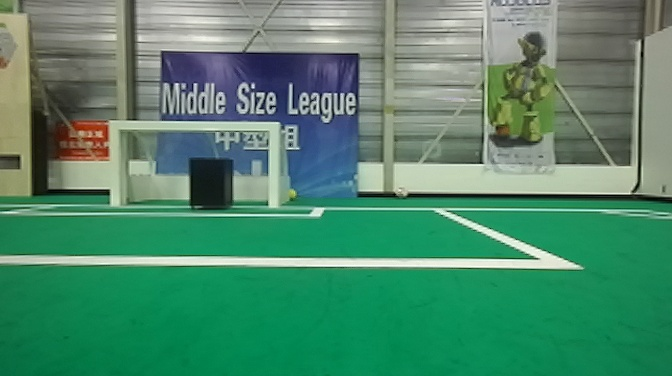ball: (284, 183, 300, 205), (392, 185, 407, 196)
goalpost: (262, 121, 280, 210), (111, 117, 124, 211)
